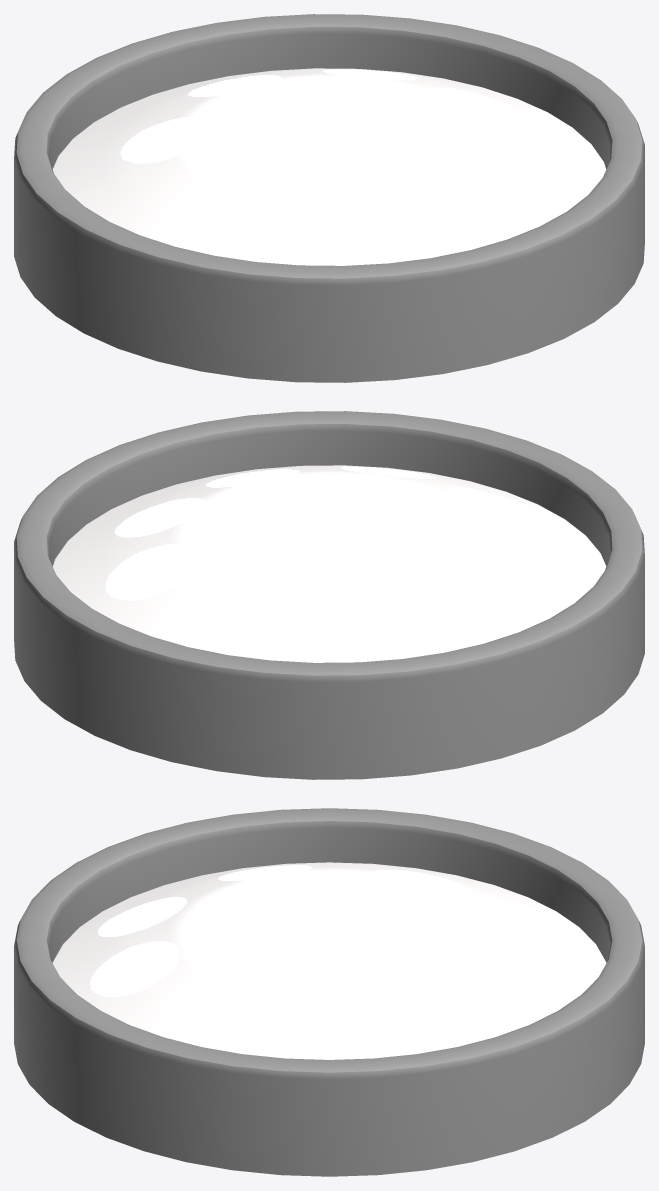
The model's file is SM_FloorLight.fbx.
The picture shows the model from 3 angles, top to bottom: view 1: azimuth 30°, elevation 25°; view 2: azimuth 150°, elevation 25°; view 3: azimuth 270°, elevation 25°; orthographic projection.
Visible parts, largest first — view 1: SM_FloorLight_LOD0; view 2: SM_FloorLight_LOD0; view 3: SM_FloorLight_LOD0.
Part boxes in pixels (x1,y1,x2,y2): SM_FloorLight_LOD0: (14,14,644,382); SM_FloorLight_LOD0: (14,411,644,779); SM_FloorLight_LOD0: (14,808,644,1176).
Bounding box in the file's own units: 19.36 × 3.77 × 19.36.
Materials: 1 (1 with a texture image).
